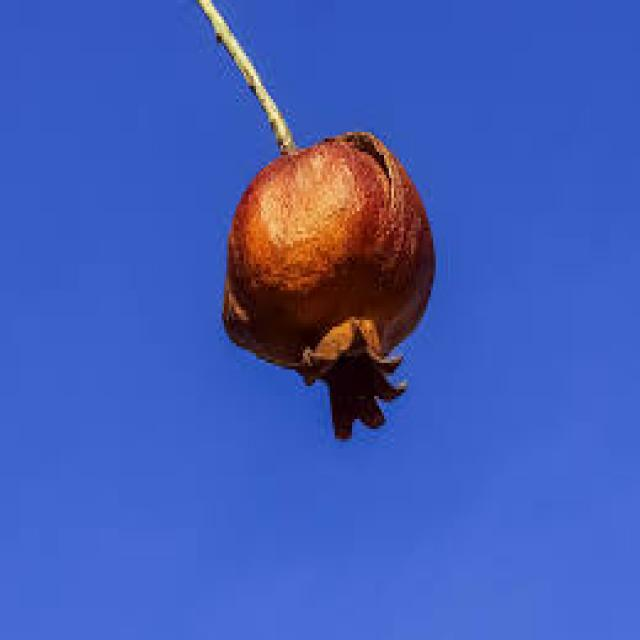organic waste: (219, 126, 433, 436)
